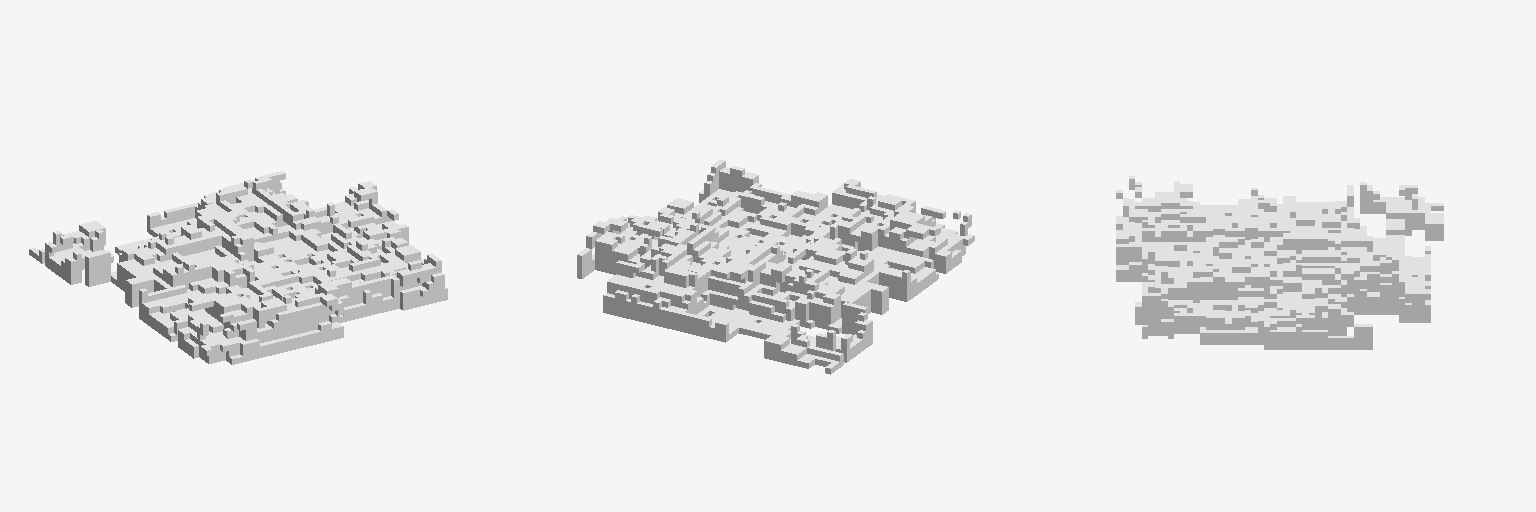
File: StoneStub.obj
3 renders of one model, left to right at view 1: azimuth 30°, elevation 25°; view 2: azimuth 150°, elevation 25°; view 3: azimuth 270°, elevation 25°, orthographic.
Parts seen in each view (by area): view 1: object 1; view 2: object 1; view 3: object 1.
Part boxes in pixels (bbox=[...]): object 1: bbox=[29, 171, 447, 364]; object 1: bbox=[577, 159, 974, 374]; object 1: bbox=[1116, 176, 1443, 349].
Size of the model in its own units: 5.2 by 0.8 by 5.1.